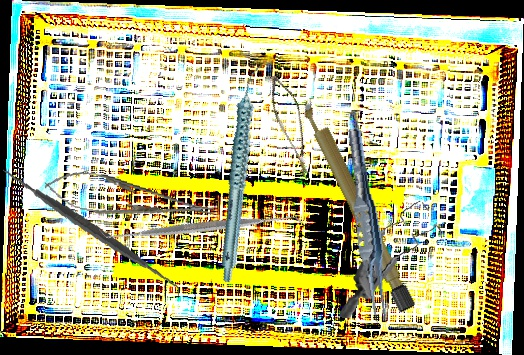Handpiece: (177, 63, 305, 284)
Micro Scissor: (253, 71, 332, 179)
Needle Holder: (41, 164, 217, 233)
Scalpel Handle: (297, 95, 418, 314)
Spatula Surgical: (98, 123, 306, 332), (2, 143, 180, 315)
Speculum: (339, 192, 447, 330)
Tissue Forceps: (339, 126, 396, 326)
